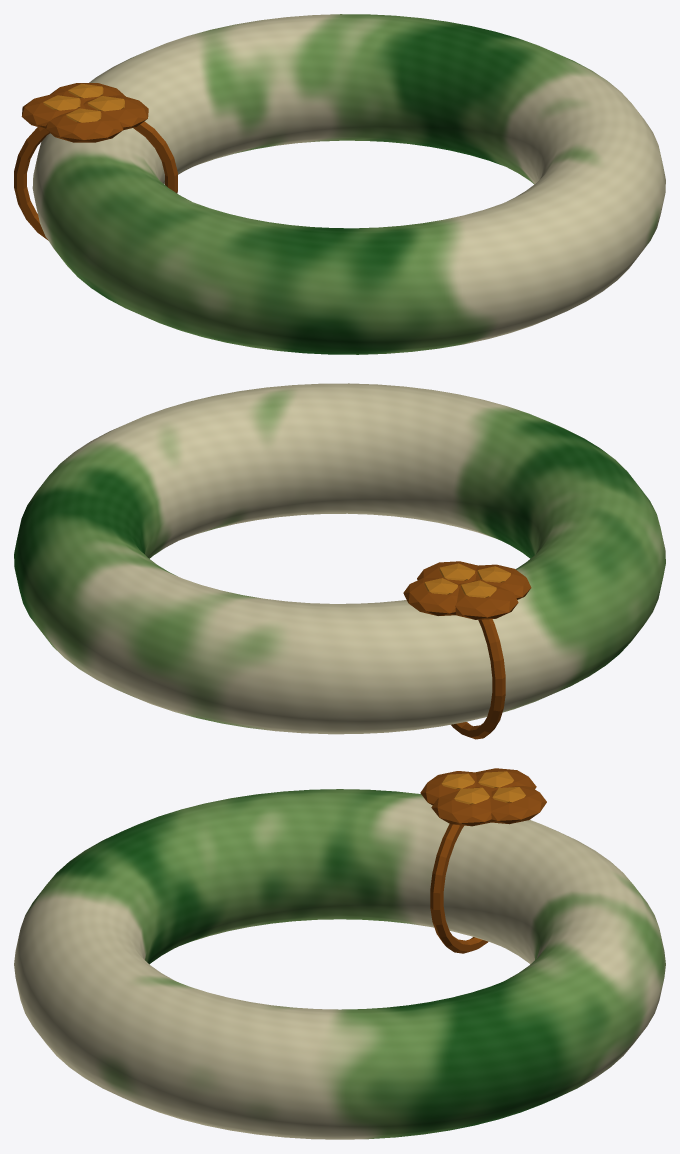
Rendered from yuzhuo.glb.
3 renders of one model, top to bottom at view 1: azimuth 30°, elevation 25°; view 2: azimuth 150°, elevation 25°; view 3: azimuth 270°, elevation 25°, orthographic. The views are drawn at different scales.
Parts seen in each view (by area): view 1: plump-white-and-emerald-jade-bangle, four-lobed-cloud-clasp, gold-repair-collar, worn-cloud-clasp-highlight; view 2: plump-white-and-emerald-jade-bangle, four-lobed-cloud-clasp, gold-repair-collar, worn-cloud-clasp-highlight; view 3: plump-white-and-emerald-jade-bangle, four-lobed-cloud-clasp, gold-repair-collar, worn-cloud-clasp-highlight.
Boxes of the visible parts, x1,y1,x2,y2 form: plump-white-and-emerald-jade-bangle: (32, 14, 665, 354); four-lobed-cloud-clasp: (21, 83, 148, 142); gold-repair-collar: (14, 121, 177, 240); worn-cloud-clasp-highlight: (43, 83, 124, 122); plump-white-and-emerald-jade-bangle: (14, 383, 665, 734); four-lobed-cloud-clasp: (403, 561, 531, 619); gold-repair-collar: (451, 619, 505, 739); worn-cloud-clasp-highlight: (424, 563, 510, 597); plump-white-and-emerald-jade-bangle: (14, 789, 665, 1139); four-lobed-cloud-clasp: (420, 768, 546, 826); gold-repair-collar: (430, 824, 488, 953); worn-cloud-clasp-highlight: (441, 771, 525, 804).
Bounding box in the file's own units: 1 × 0.2696 × 1.
Materials: 3 (1 with a texture image).
